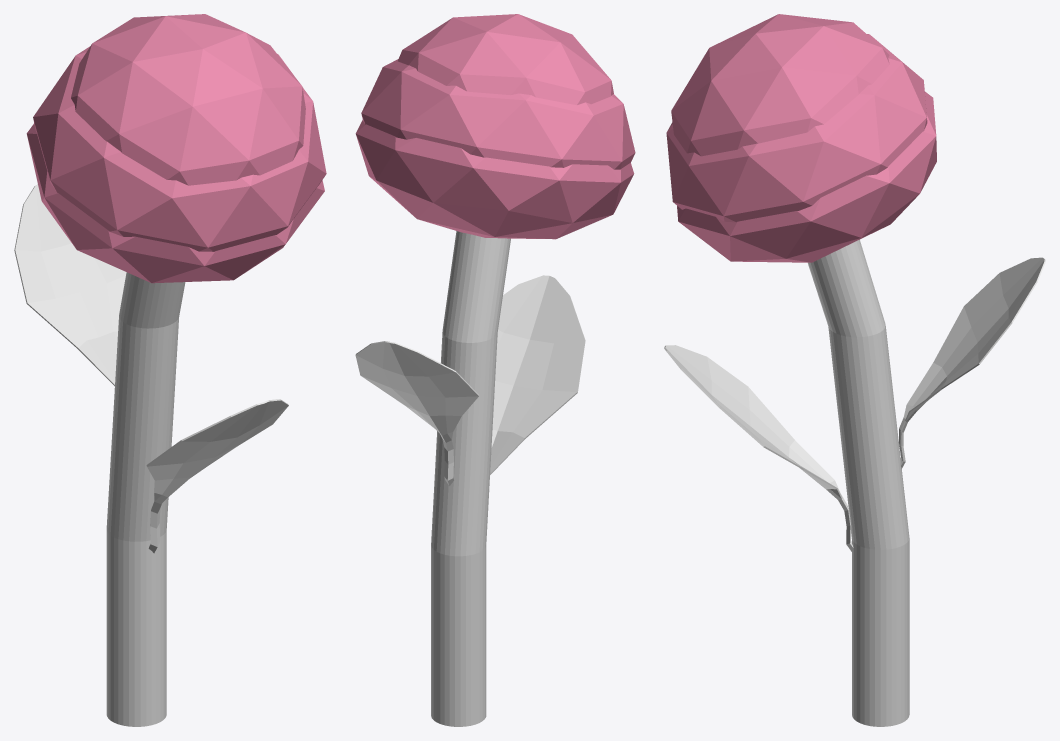
File: Amaranth_picked.fbx
3 renders of one model, left to right at view 1: azimuth 30°, elevation 25°; view 2: azimuth 150°, elevation 25°; view 3: azimuth 270°, elevation 25°, orthographic. The views are drawn at different scales.
Parts seen in each view (by area): view 1: AmaranthHead_1, Stem, AmaranthHead_3, leaf.001, AmaranthHead_2, leaf.002; view 2: Stem, AmaranthHead_2, AmaranthHead_3, AmaranthHead_1, leaf.002, leaf.001; view 3: Stem, AmaranthHead_1, AmaranthHead_3, AmaranthHead_2, leaf.001, leaf.002.
Boxes of the visible parts, x1,y1,x2,y2 form: AmaranthHead_1: [71, 14, 305, 185]; Stem: [106, 272, 185, 726]; AmaranthHead_3: [33, 46, 326, 251]; leaf.001: [14, 184, 126, 386]; AmaranthHead_2: [26, 123, 324, 283]; leaf.002: [146, 399, 288, 553]; Stem: [431, 231, 510, 726]; AmaranthHead_2: [355, 120, 634, 239]; AmaranthHead_3: [361, 59, 635, 169]; AmaranthHead_1: [398, 14, 613, 105]; leaf.002: [490, 275, 585, 474]; leaf.001: [355, 341, 478, 485]; Stem: [808, 239, 909, 726]; AmaranthHead_1: [671, 14, 889, 156]; AmaranthHead_3: [666, 34, 927, 222]; AmaranthHead_2: [677, 91, 936, 262]; leaf.001: [899, 257, 1045, 468]; leaf.002: [664, 345, 853, 552].
Bounding box in the file's own units: 365 × 938 × 471.
